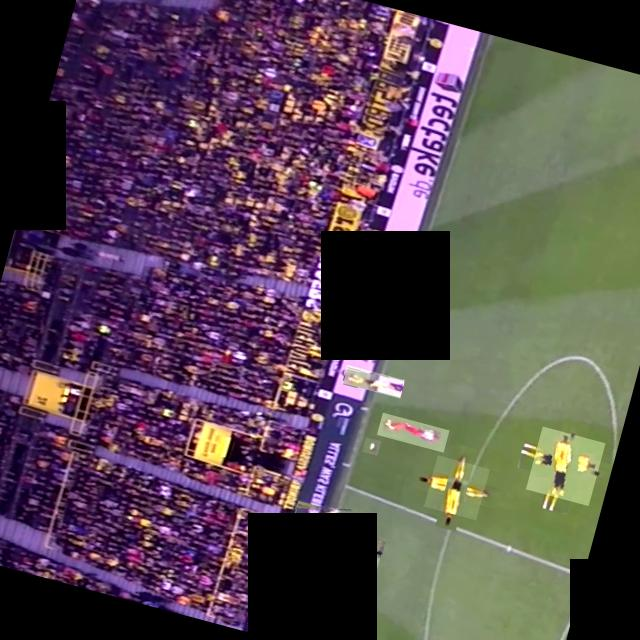ball: (360, 436, 380, 456)
soccer-player: (524, 426, 604, 506), (422, 454, 488, 520), (375, 412, 448, 452), (264, 583, 332, 623), (312, 541, 378, 580), (321, 522, 385, 556), (292, 498, 352, 534), (341, 364, 404, 398)
